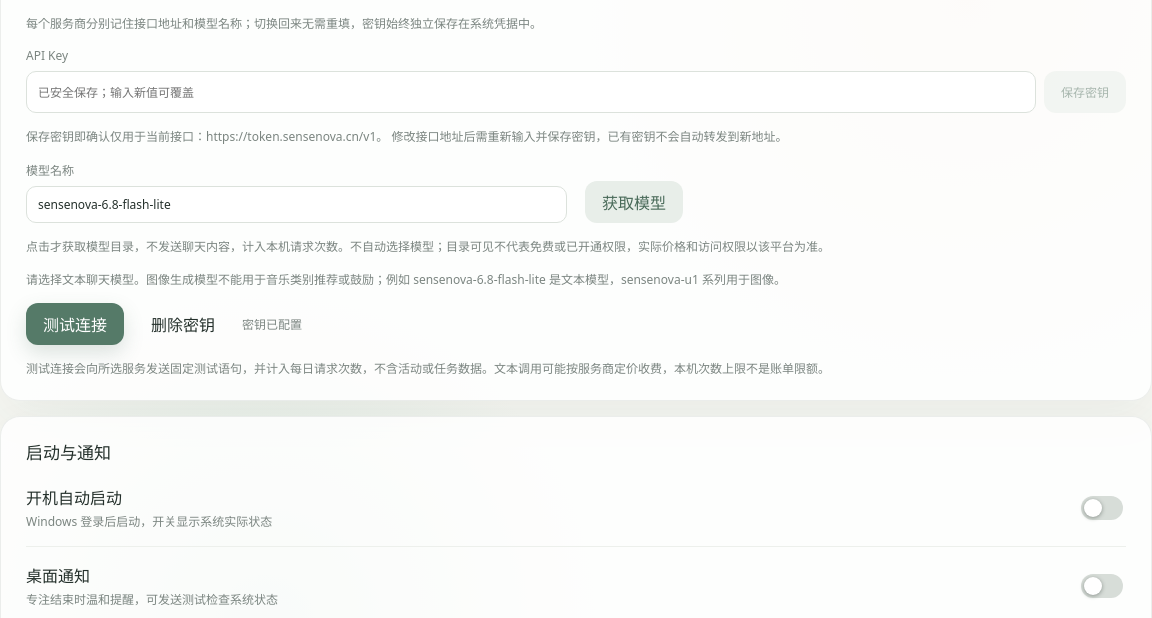
Scenario: AI 设置与系统设置 › 删除已保存Key后恢复未配置状态
(page scrolled)
What coordinates should you click on to do the following:
click the button "删除密钥"
I would click on:
 (183, 324)
Its box is [134,303,232,345].
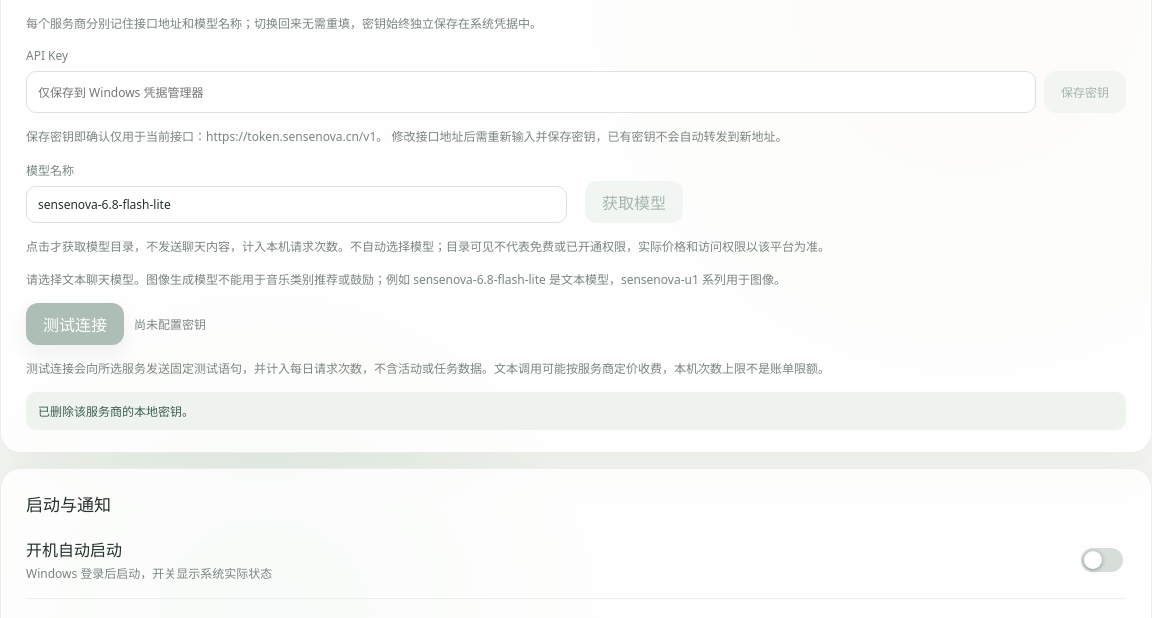
Expected: the text "已删除该服务商的本地密钥。" is shown, [26,392,1126,430]
Expected: the button "测试连接" is disabled, [26,303,124,345]
